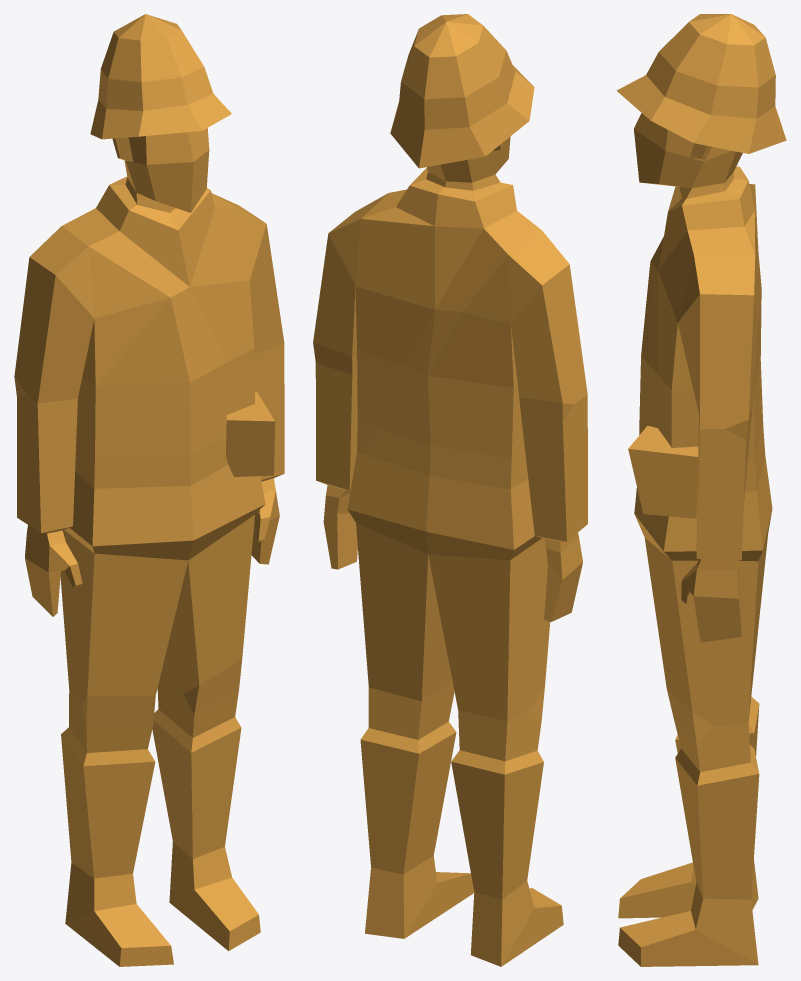
File: man-zulu-uk.fbx
3 views of the same model, side by side, from view 1: azimuth 30°, elevation 25°; view 2: azimuth 150°, elevation 25°; view 3: azimuth 270°, elevation 25° (orthographic).
Visible parts, largest first — view 1: man-zulu-uk; view 2: man-zulu-uk; view 3: man-zulu-uk.
Boxes of the visible parts, x1=… form: man-zulu-uk: x1=14, y1=14, x2=284, y2=966; man-zulu-uk: x1=313, y1=14, x2=587, y2=966; man-zulu-uk: x1=616, y1=14, x2=786, y2=966.
Bounding box in the file's own units: 0.5439 × 1.9 × 0.3199.
